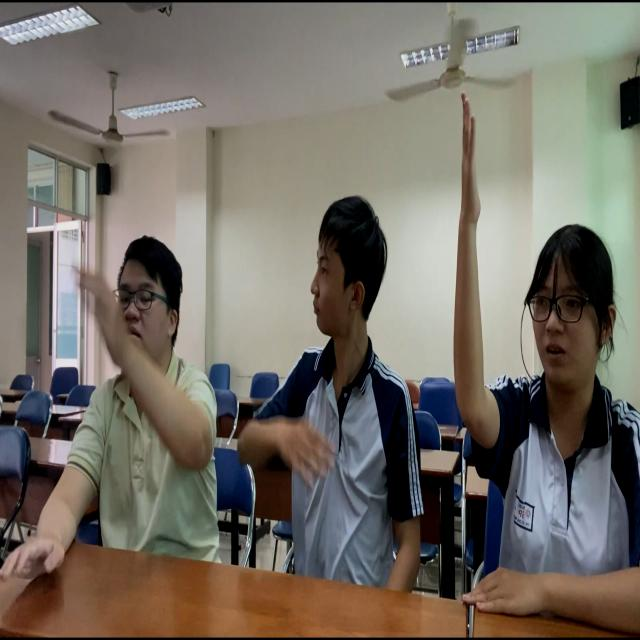raise_hand: (438, 84, 640, 640)
